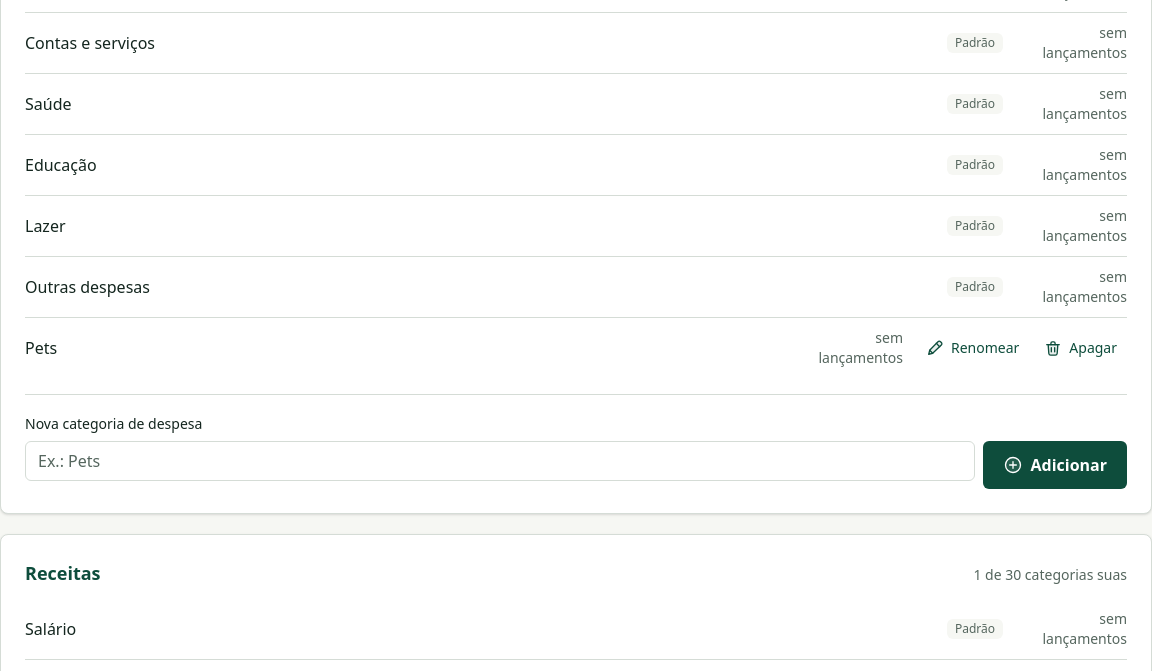
Test: página de categorias › renomear › abre com o nome atual, salva com PATCH e avisa
This screenshot has width=1152, height=671.
(page scrolled)
Click the button with aria-label "Renomear Pets".
click(972, 348)  # box [915,330,1029,366]
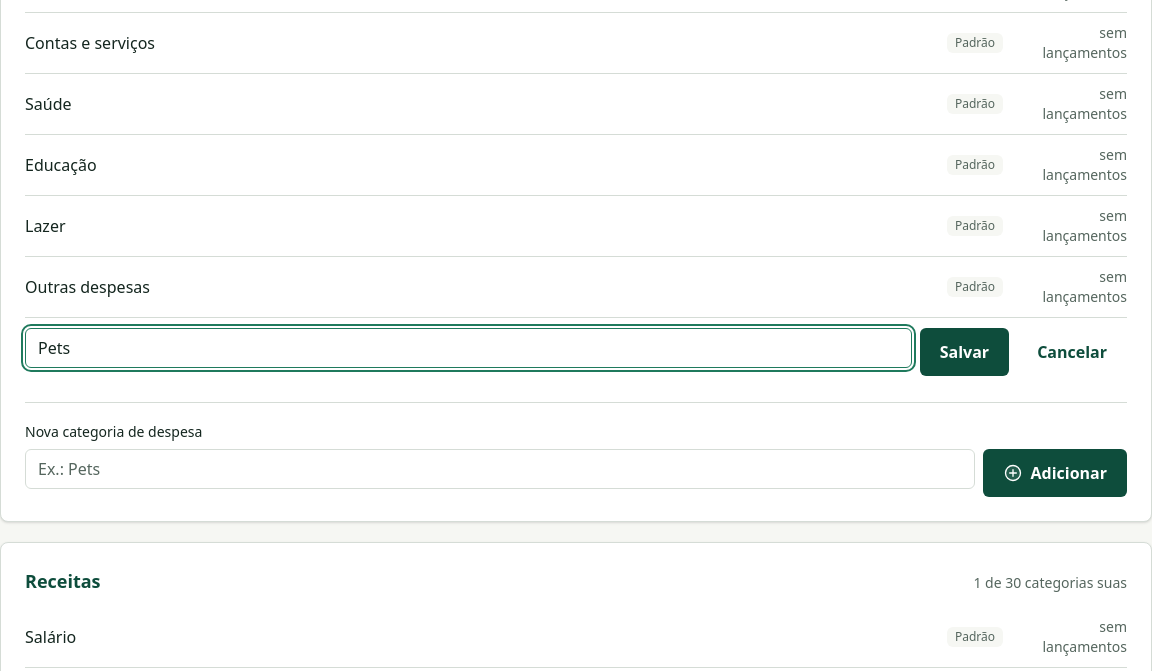
Expected: the field named "Novo nome de Pets" holds "Pets"
Replace the text in the field named "Novo nome de Pets" with "  Animais " at [468, 348], box [25,328,912,368]
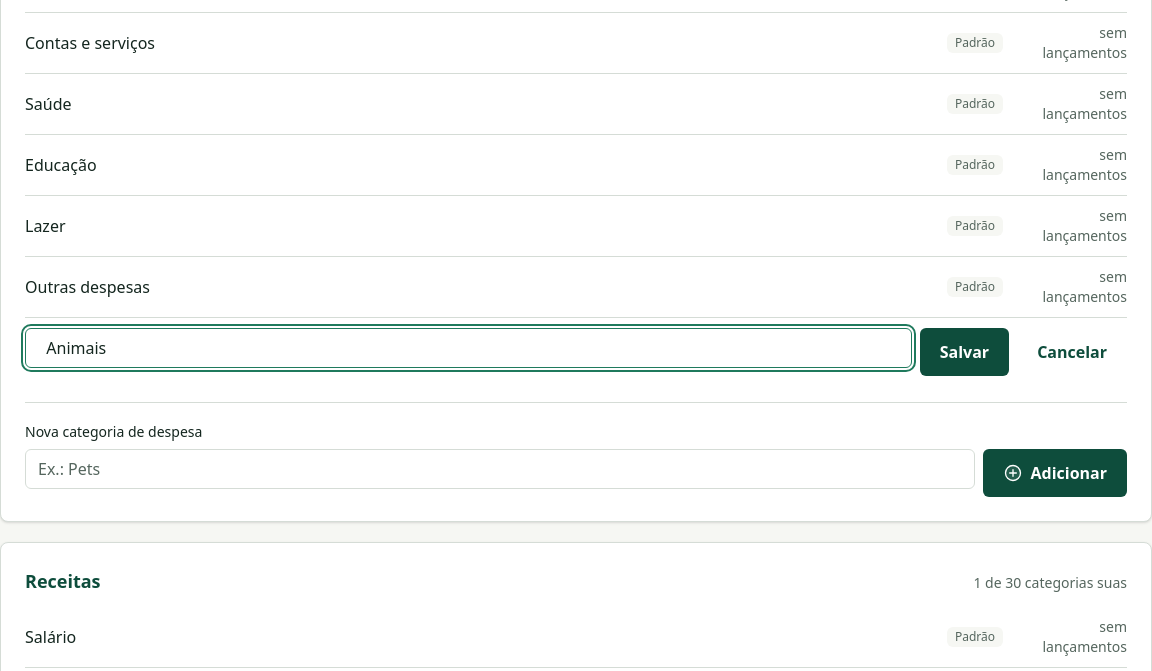
Click the button "Salvar".
click(964, 352)  # box [920,328,1009,376]
(page scrolled)
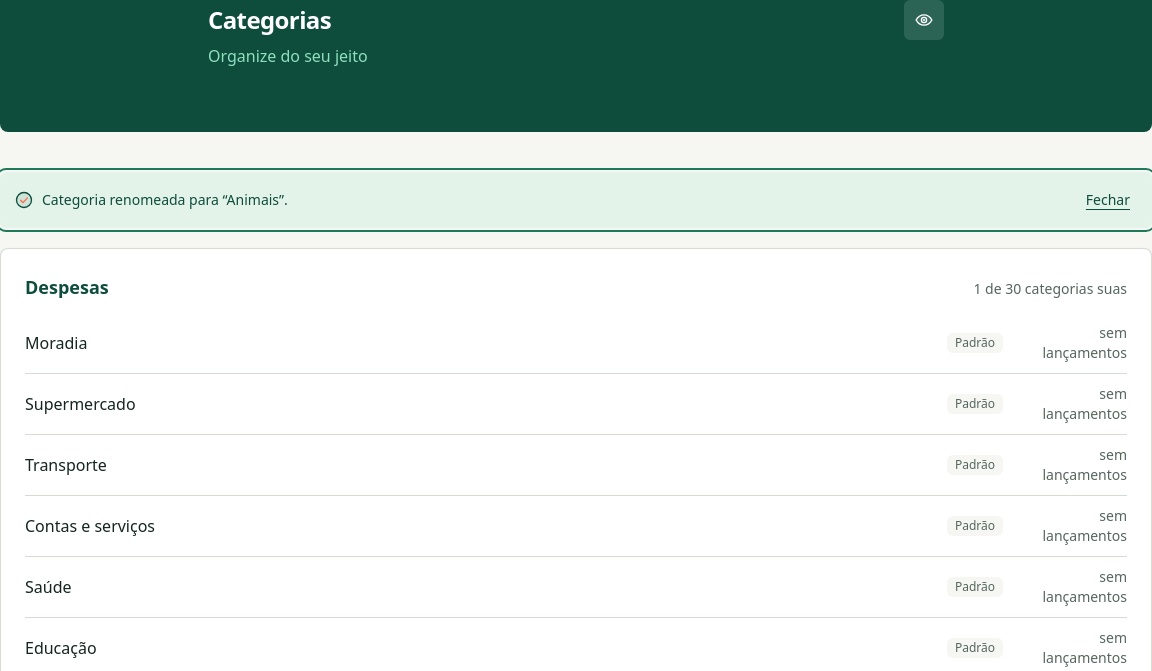
Expected: the text "Categoria renomeada para “Animais”." is shown, [42,190,288,209]
